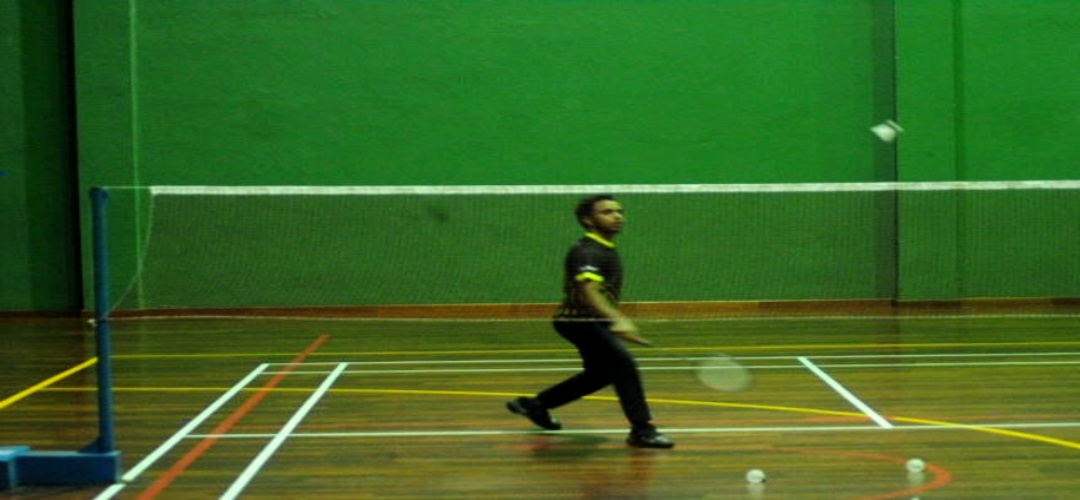c1: (272, 427, 295, 447)
c2: (873, 421, 905, 436)
player: (506, 195, 681, 451)
shuttle: (868, 116, 904, 145)
